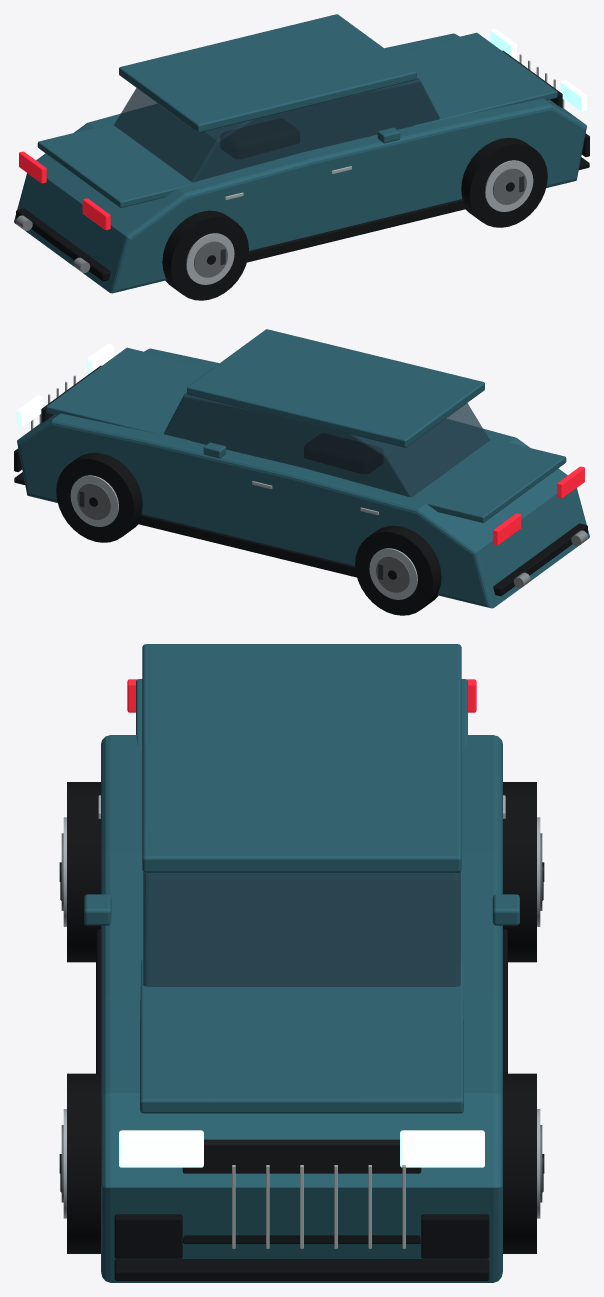
File: lambo_urus_se.glb
3 views of the same model, one above another, from view 1: azimuth 30°, elevation 25°; view 2: azimuth 150°, elevation 25°; view 3: azimuth 270°, elevation 25° (orthographic). The views are drawn at different scales.
Parts seen in each view (by area): view 1: sculpted_body, roof, glasshouse, hood_center, rear_deck, rear_right_wheel_tire, front_right_wheel_tire, side_skirt_1, seat_1, rear_diffuser, rear_right_wheel_rim, front_right_wheel_rim (+6 smaller); view 2: sculpted_body, roof, glasshouse, hood_center, rear_deck, rear_left_wheel_tire, front_left_wheel_tire, side_skirt_-1, seat_-1, rear_diffuser, rear_left_wheel_rim, front_left_wheel_rim (+6 smaller); view 3: sculpted_body, roof, hood_center, glasshouse, front_grille, front_splitter, front_left_wheel_tire, front_right_wheel_tire, rear_left_wheel_tire, rear_right_wheel_tire, headlight_right, headlight_left (+5 smaller).
Part boxes in pixels (x1,y1,x2,y2): sculpted_body: (14, 33, 586, 293); roof: (119, 14, 416, 132); glasshouse: (114, 77, 440, 182); hood_center: (367, 32, 557, 126); rear_deck: (37, 124, 192, 207); rear_right_wheel_tire: (162, 210, 248, 300); front_right_wheel_tire: (461, 137, 547, 227); side_skirt_1: (247, 199, 467, 262); seat_1: (221, 119, 299, 158); rear_diffuser: (16, 208, 110, 281); rear_right_wheel_rim: (186, 233, 234, 284); front_right_wheel_rim: (485, 160, 533, 211); sculpted_body: (17, 348, 589, 608); roof: (187, 329, 484, 447); glasshouse: (164, 392, 489, 497); hood_center: (46, 347, 236, 441); rear_deck: (411, 439, 566, 522); rear_left_wheel_tire: (355, 525, 441, 615); front_left_wheel_tire: (56, 452, 142, 542); side_skirt_-1: (136, 514, 356, 577); seat_-1: (304, 434, 382, 473); rear_diffuser: (493, 523, 587, 596); rear_left_wheel_rim: (369, 548, 417, 599); front_left_wheel_rim: (70, 475, 118, 526); sculpted_body: (101, 735, 502, 1282); roof: (142, 644, 461, 872); hood_center: (140, 960, 463, 1113); glasshouse: (143, 872, 460, 986); front_grille: (182, 1139, 421, 1243); front_splitter: (114, 1259, 489, 1280); front_left_wheel_tire: (503, 1073, 536, 1253); front_right_wheel_tire: (67, 1073, 100, 1253); rear_left_wheel_tire: (503, 782, 536, 962); rear_right_wheel_tire: (67, 782, 100, 962); headlight_right: (119, 1130, 203, 1167); headlight_left: (400, 1130, 484, 1167).
Bounding box in the file's own units: 5.49 × 1.67 × 2.31.
